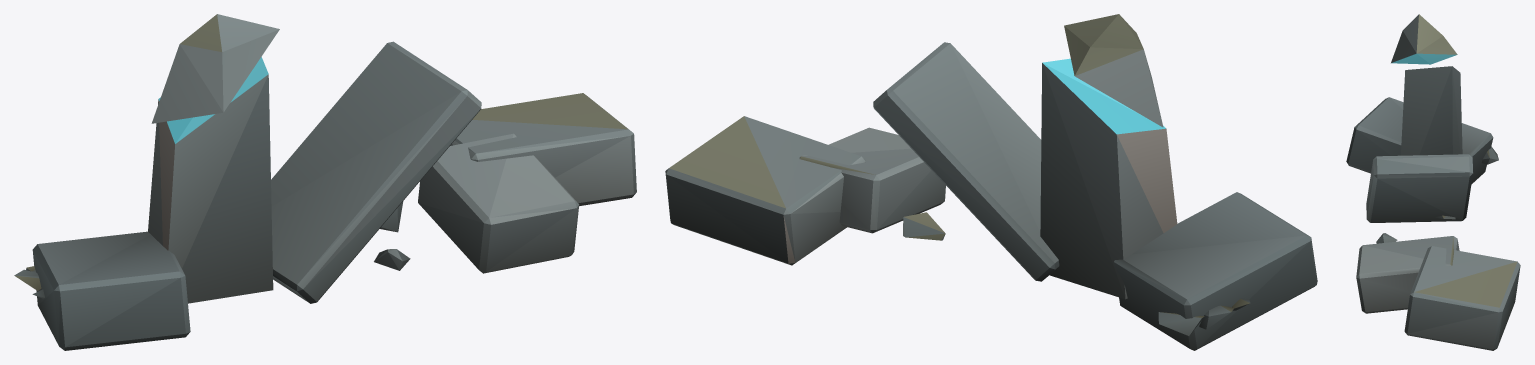
Rendered from rift_rubble.glb.
3 renders of one model, left to right at view 1: azimuth 30°, elevation 25°; view 2: azimuth 150°, elevation 25°; view 3: azimuth 270°, elevation 25°, orthographic. The views are drawn at different scales.
Visible parts, largest first — view 1: ca_rift_rubble; view 2: ca_rift_rubble; view 3: ca_rift_rubble.
Boxes of the visible parts, <box> form: ca_rift_rubble: <box>14,14,636,350</box>; ca_rift_rubble: <box>665,14,1317,350</box>; ca_rift_rubble: <box>1346,14,1520,350</box>.
Size of the model in its own units: 7.55 by 3.5 by 2.74.
1 material, 1 textured.
